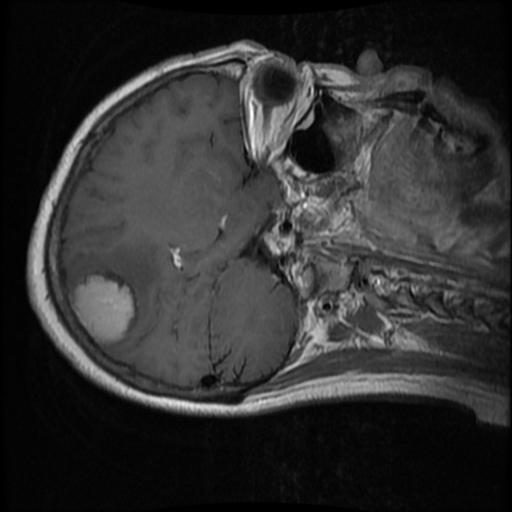meningioma: (70, 275, 136, 344)
